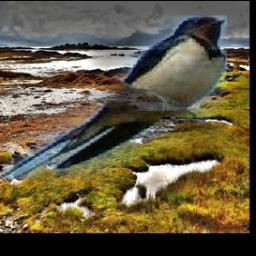Swallow: (4, 15, 228, 179)
